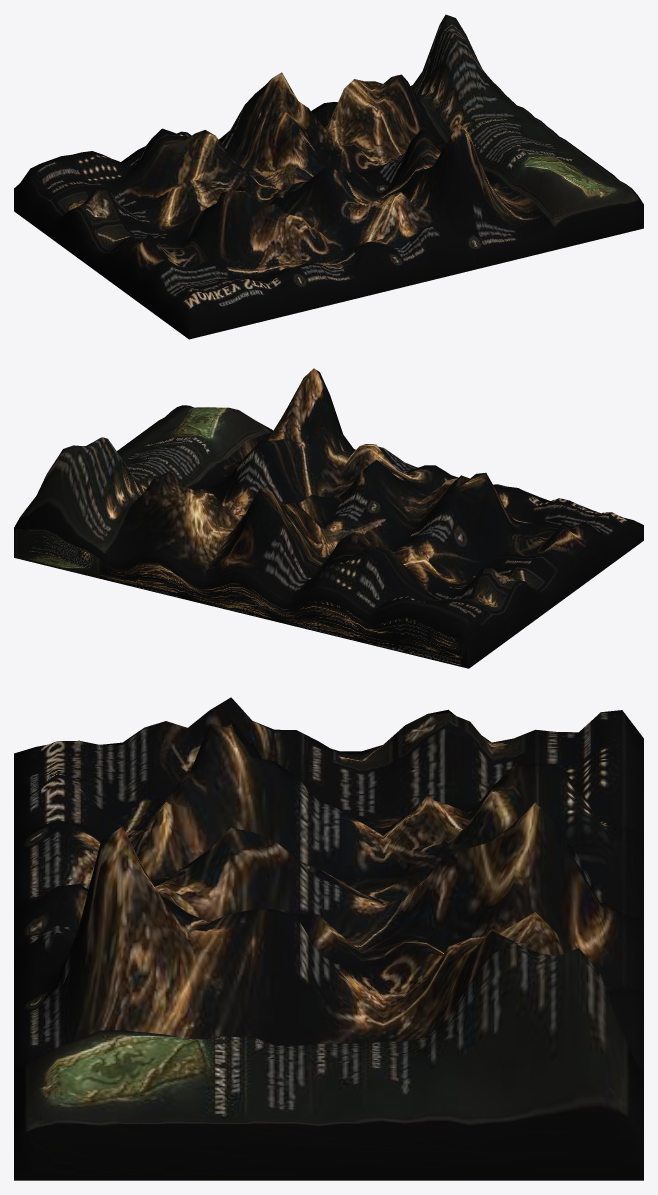
File: CUL_37_Monkey.glb
3 renders of one model, top to bottom at view 1: azimuth 30°, elevation 25°; view 2: azimuth 150°, elevation 25°; view 3: azimuth 270°, elevation 25°, orthographic. The views are drawn at different scales.
Visible parts, largest first — view 1: CUL_37_Monkey; view 2: CUL_37_Monkey; view 3: CUL_37_Monkey.
Boxes of the visible parts, box(x1,y1,x2,y2) form: CUL_37_Monkey: box(14, 14, 643, 339); CUL_37_Monkey: box(14, 368, 643, 668); CUL_37_Monkey: box(14, 697, 643, 1180).
Size of the model in its own units: 2 by 0.51 by 1.33.
1 material, 1 textured.
